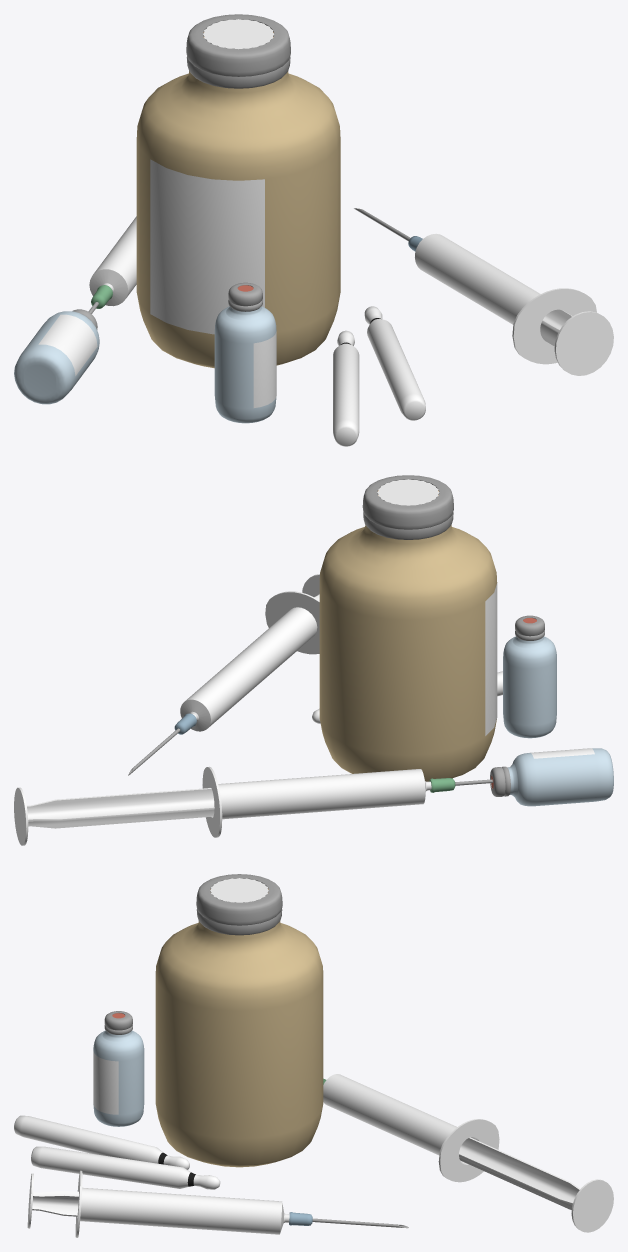
The model's file is supplies.fbx.
The picture shows the model from 3 angles, top to bottom: view 1: azimuth 30°, elevation 25°; view 2: azimuth 150°, elevation 25°; view 3: azimuth 270°, elevation 25°; orthographic projection. The views are drawn at different scales.
Visible parts, largest first — view 1: bottle_001, injection_void_001, potion_002, potion_001, bigcup_001, piston_002, ampulle_002, ampulle_001, injection_void_002, seal_locked_001, hcup_002; view 2: bottle_001, injection_void_002, injection_void_001, piston_001, potion_001, potion_002, bigcup_001, seal_locked_001, hcup_002, hcup_001, needle_002; view 3: bottle_001, injection_void_001, injection_void_002, piston_001, potion_002, ampulle_002, bigcup_001, ampulle_001, piston_002, seal_locked_001, needle_002, hcup_002.
Boxes of the visible parts, <box> form: bottle_001: <box>136,71,340,368</box>; injection_void_001: <box>415,233,596,364</box>; potion_002: <box>214,306,276,423</box>; potion_001: <box>14,311,99,404</box>; bigcup_001: <box>186,14,290,88</box>; piston_002: <box>540,309,613,375</box>; ampulle_002: <box>364,306,425,420</box>; ampulle_001: <box>333,330,359,446</box>; injection_void_002: <box>89,216,136,306</box>; seal_locked_001: <box>203,19,274,49</box>; hcup_002: <box>228,282,262,311</box>; bottle_001: <box>319,525,497,781</box>; injection_void_002: <box>202,766,431,837</box>; injection_void_001: <box>180,591,319,731</box>; piston_001: <box>14,787,214,845</box>; potion_001: <box>507,748,613,806</box>; potion_002: <box>503,636,556,738</box>; bigcup_001: <box>362,475,453,539</box>; seal_locked_001: <box>377,479,439,505</box>; hcup_002: <box>515,615,544,640</box>; hcup_001: <box>490,766,510,796</box>; needle_002: <box>128,713,196,775</box>; bottle_001: <box>155,921,323,1167</box>; injection_void_001: <box>75,1170,289,1237</box>; injection_void_002: <box>323,1074,499,1182</box>; piston_001: <box>459,1137,613,1232</box>; potion_002: <box>93,1030,144,1126</box>; ampulle_002: <box>31,1146,220,1189</box>; bigcup_001: <box>196,874,282,935</box>; ampulle_001: <box>14,1115,189,1169</box>; piston_002: <box>27,1173,78,1228</box>; seal_locked_001: <box>210,878,268,902</box>; needle_002: <box>289,1212,408,1228</box>; hcup_002: <box>104,1011,132,1034</box>.
Size of the model in its own units: 8.73 by 5.27 by 11.24.
